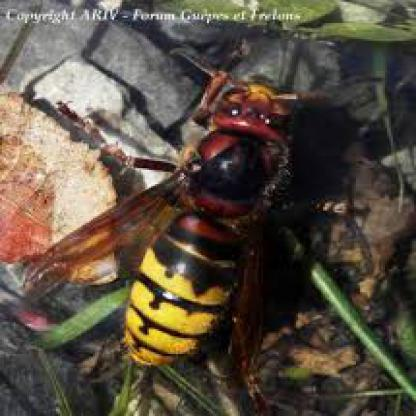european: (39, 46, 323, 382)
